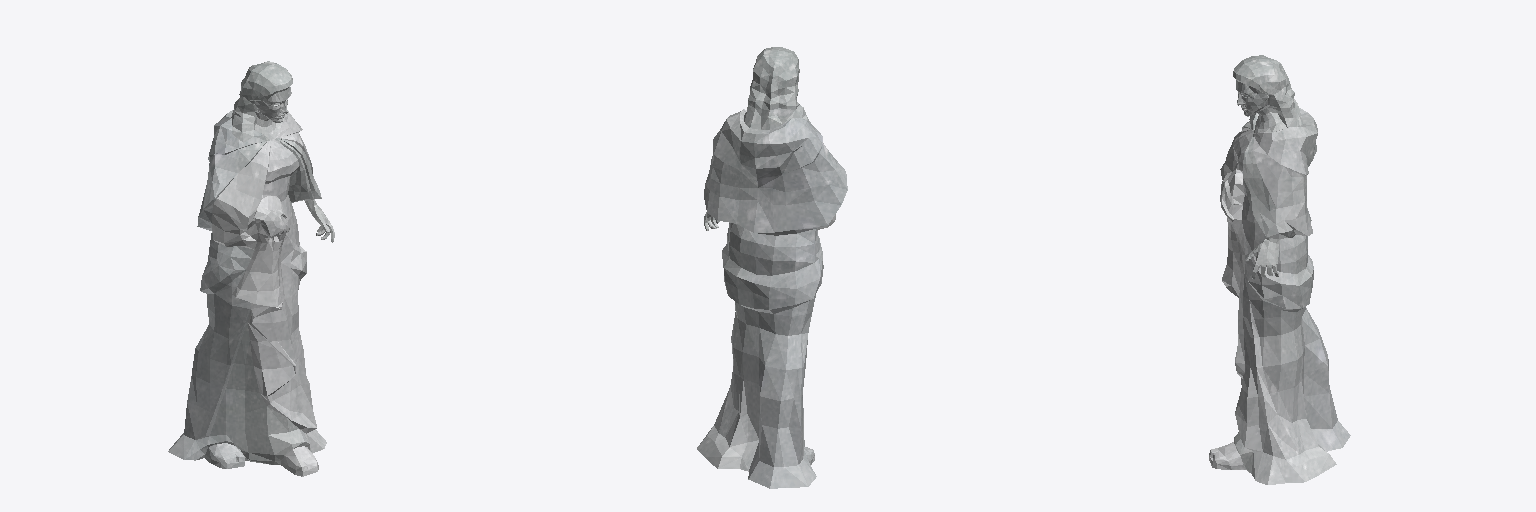
The picture shows the model from 3 angles: view 1: azimuth 30°, elevation 25°; view 2: azimuth 150°, elevation 25°; view 3: azimuth 270°, elevation 25°; orthographic projection.
Parts seen in each view (by area): view 1: ORN_Statues_MourningWoman_v01; view 2: ORN_Statues_MourningWoman_v01; view 3: ORN_Statues_MourningWoman_v01.
Part boxes in pixels (x1,y1,x2,y2): ORN_Statues_MourningWoman_v01: (168, 61, 334, 476); ORN_Statues_MourningWoman_v01: (697, 47, 847, 488); ORN_Statues_MourningWoman_v01: (1209, 55, 1350, 484).
Bounding box in the file's own units: 0.5164 × 1.47 × 0.478.
Materials: 1 (1 with a texture image).